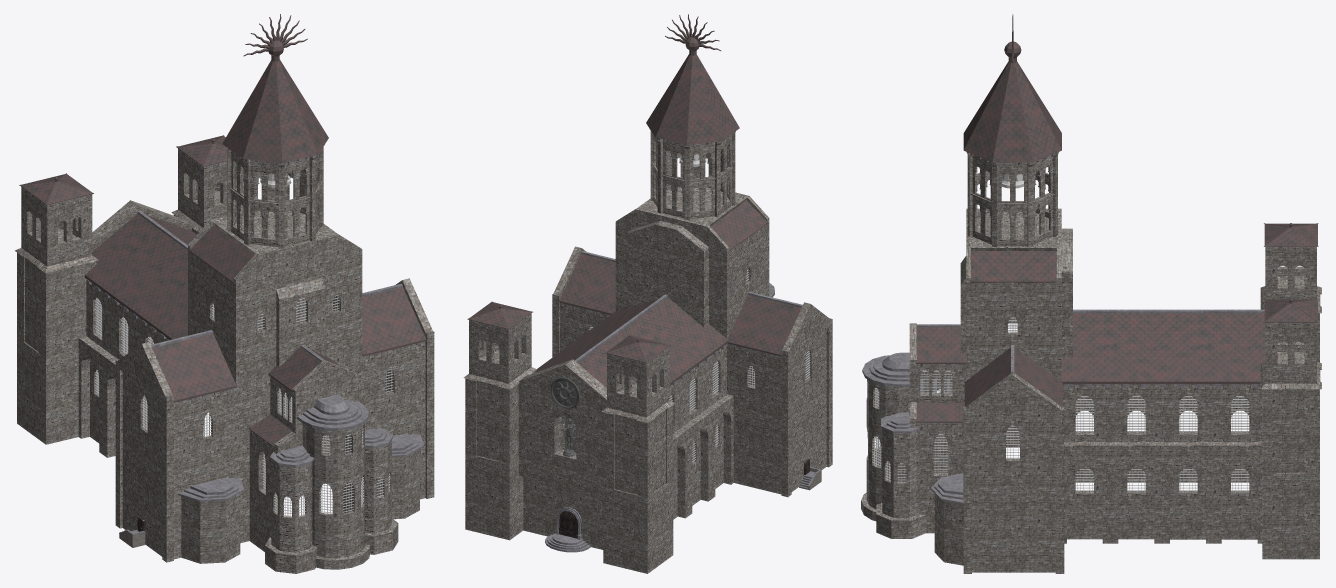
Rendered from Church.fbx.
3 views of the same model, side by side, from view 1: azimuth 30°, elevation 25°; view 2: azimuth 150°, elevation 25°; view 3: azimuth 270°, elevation 25° (orthographic). The views are drawn at different scales.
Visible parts, largest first — view 1: StoneBrickWalls, CopperRoof, StoneRoof, WindowBars, StoneBeams; view 2: StoneBrickWalls, CopperRoof, StoneBeams, FrontDoorFrame, WindowBars, SunSymbol; view 3: StoneBrickWalls, CopperRoof, WindowBars, StoneRoof, StoneBeams.
Part boxes in pixels (x1,y1,x2,y2): StoneBrickWalls: [15, 147, 434, 573]; CopperRoof: [19, 14, 426, 447]; StoneRoof: [177, 394, 423, 501]; WindowBars: [95, 294, 393, 517]; StoneBeams: [22, 148, 420, 447]; StoneBrickWalls: [463, 131, 832, 573]; CopperRoof: [467, 14, 801, 387]; StoneBeams: [471, 132, 802, 385]; FrontDoorFrame: [545, 507, 590, 552]; WindowBars: [589, 267, 810, 463]; SunSymbol: [550, 377, 580, 408]; StoneBrickWalls: [861, 152, 1321, 573]; CopperRoof: [916, 14, 1318, 422]; WindowBars: [872, 317, 1249, 492]; StoneRoof: [862, 352, 963, 504]; StoneBeams: [916, 154, 1313, 424].
Bounding box in the file's own units: 4407 × 7511 × 6372.
